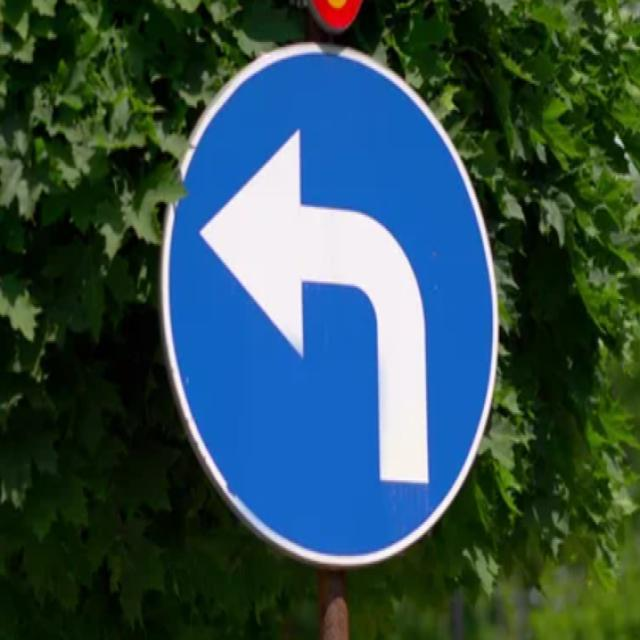LEFT: (159, 42, 498, 567)
